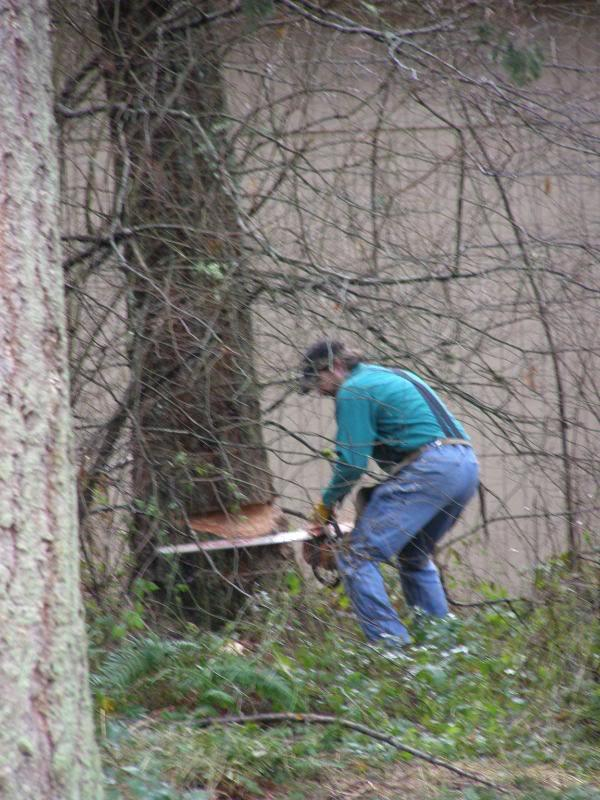person: (303, 341, 481, 650)
